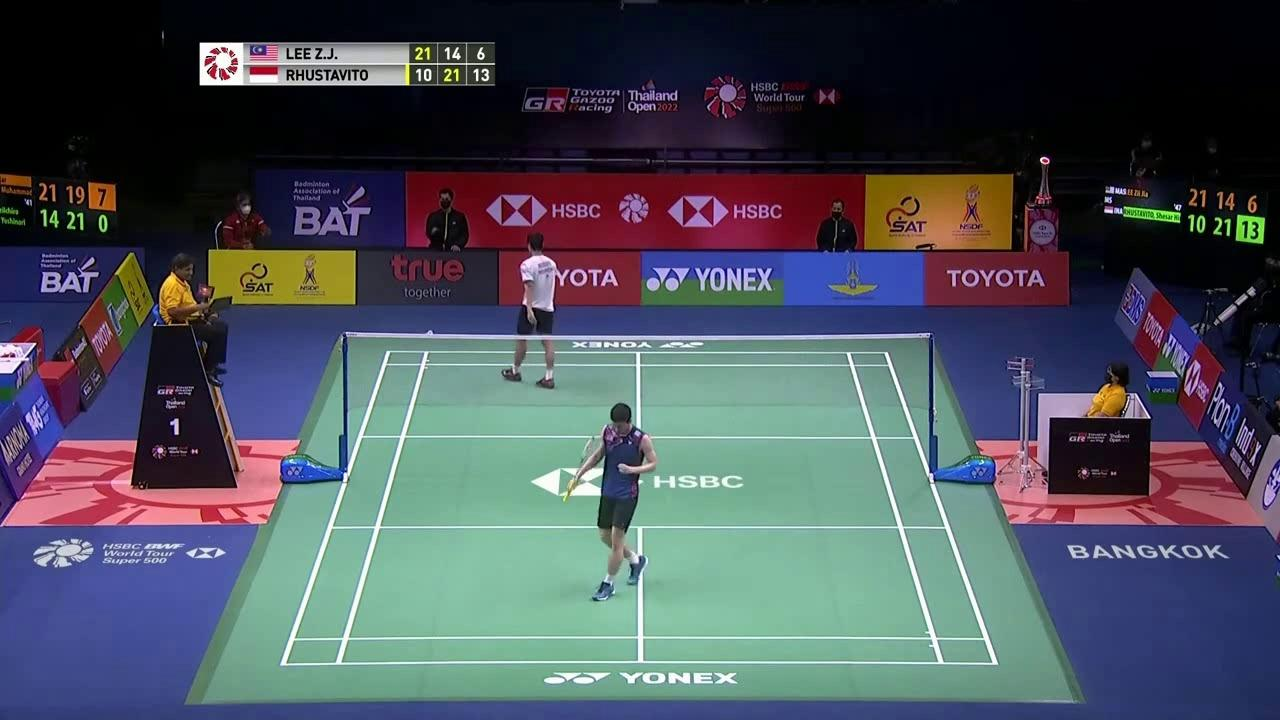racket: (562, 436, 595, 504)
shuttle: (426, 329, 433, 337)
